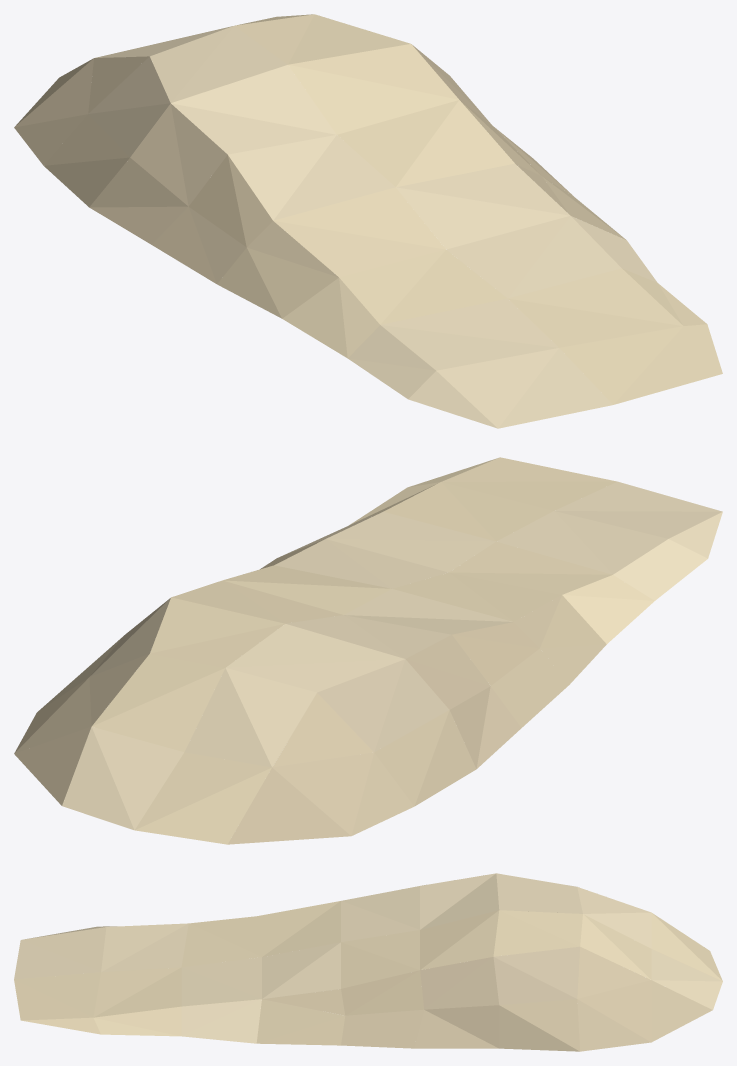
The model's file is drmpg.glb.
3 renders of one model, top to bottom at view 1: azimuth 30°, elevation 25°; view 2: azimuth 150°, elevation 25°; view 3: azimuth 270°, elevation 25°, orthographic. The views are drawn at different scales.
Visible parts, largest first — view 1: drmpg; view 2: drmpg; view 3: drmpg.
Part boxes in pixels (x1=…): drmpg: x1=14, y1=14, x2=722, y2=428; drmpg: x1=14, y1=457, x2=722, y2=844; drmpg: x1=14, y1=873, x2=722, y2=1051.
Size of the model in its own units: 23 by 5.45 by 49.09.
